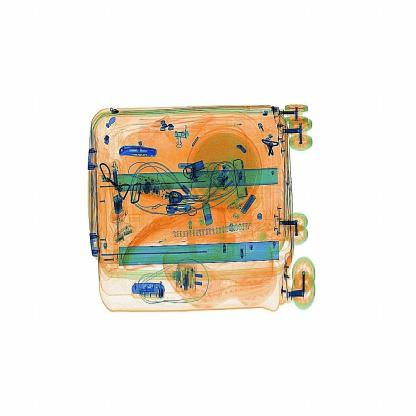knife: (114, 141, 172, 169)
